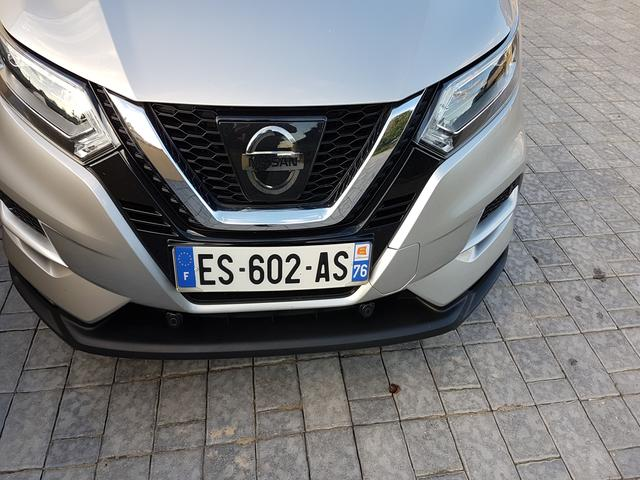Quashquai: (165, 234, 389, 318)
